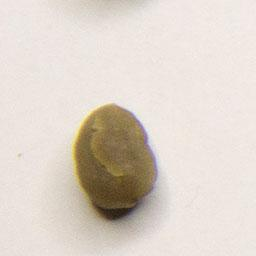peaberry: (71, 98, 161, 217)
